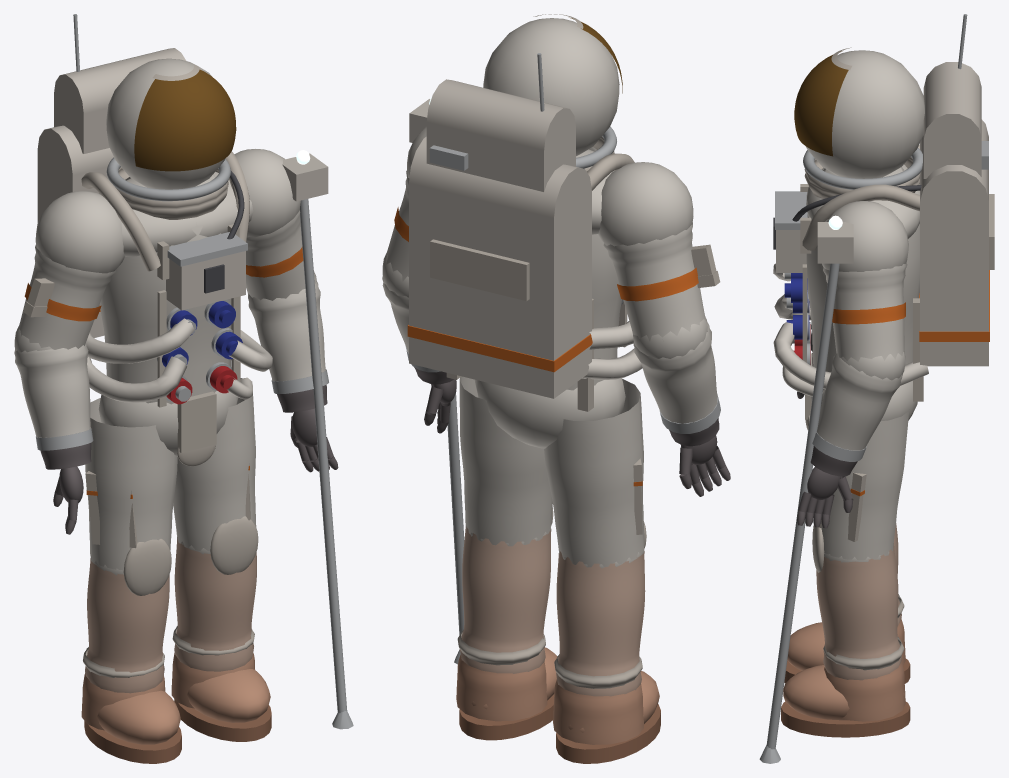
Rendered from C02_colonist_survey_pole.glb.
3 renders of one model, left to right at view 1: azimuth 30°, elevation 25°; view 2: azimuth 150°, elevation 25°; view 3: azimuth 270°, elevation 25°, orthographic. The views are drawn at different scales.
Visible parts, largest first — view 1: thigh (×2), shin (×2), forearm (×2), shoulder (×2), visor, upper_arm (×2), torso, boot (×2), pole, helmet_shell, oxygen_hose (×2), knee_patch (×2) (+24 smaller); view 2: pack_main, thigh (×2), shin (×2), helmet_shell, boot_shaft (×2), upper_arm (×2), pack_upper_roll, shoulder, pelvis, forearm (×2), pack_upper_unit, pack_top_roll (+17 smaller); view 3: pack_main, helmet_shell, shin, thigh, upper_arm, forearm, pole, pack_upper_roll, boot (×2), shoulder, visor, torso (+26 smaller).
Boxes of the visible parts, x1=… form: thigh (×2): x1=85, y1=378, x2=256, y2=570; shin (×2): x1=85, y1=537, x2=256, y2=693; forearm (×2): x1=14, y1=281, x2=325, y2=437; shoulder (×2): x1=35, y1=149, x2=300, y2=273; visor: x1=134, y1=69, x2=236, y2=171; upper_arm (×2): x1=17, y1=210, x2=314, y2=349; torso: x1=99, y1=174, x2=231, y2=404; boot (×2): x1=97, y1=669, x2=270, y2=744; pole: x1=300, y1=199, x2=347, y2=712; helmet_shell: x1=106, y1=58, x2=225, y2=189; oxygen_hose (×2): x1=86, y1=318, x2=194, y2=402; knee_patch (×2): x1=123, y1=516, x2=258, y2=595; pack_main: x1=409, y1=183, x2=591, y2=398; thigh (×2): x1=459, y1=376, x2=644, y2=567; shin (×2): x1=460, y1=526, x2=645, y2=696; helmet_shell: x1=483, y1=18, x2=619, y2=156; boot_shaft (×2): x1=456, y1=655, x2=643, y2=744; upper_arm (×2): x1=385, y1=170, x2=705, y2=341; pack_upper_roll: x1=426, y1=79, x2=575, y2=169; shoulder: x1=598, y1=162, x2=693, y2=246; pelvis: x1=474, y1=378, x2=625, y2=448; forearm (×2): x1=382, y1=276, x2=717, y2=423; pack_upper_unit: x1=426, y1=122, x2=575, y2=191; pack_top_roll: x1=409, y1=136, x2=591, y2=237; pack_main: x1=920, y1=201, x2=988, y2=366; helmet_shell: x1=806, y1=50, x2=924, y2=178; shin: x1=816, y1=543, x2=901, y2=680; thigh: x1=820, y1=407, x2=909, y2=560; upper_arm: x1=823, y1=262, x2=907, y2=361; forearm: x1=817, y1=353, x2=902, y2=450; pole: x1=766, y1=263, x2=839, y2=749; pack_upper_roll: x1=923, y1=62, x2=981, y2=164; boot (×2): x1=783, y1=622, x2=904, y2=720; shoulder: x1=822, y1=201, x2=908, y2=271; visor: x1=794, y1=51, x2=848, y2=156; torso: x1=806, y1=167, x2=919, y2=372.
Bounding box in the file's own units: 0.9325 × 2.02 × 0.6477.
